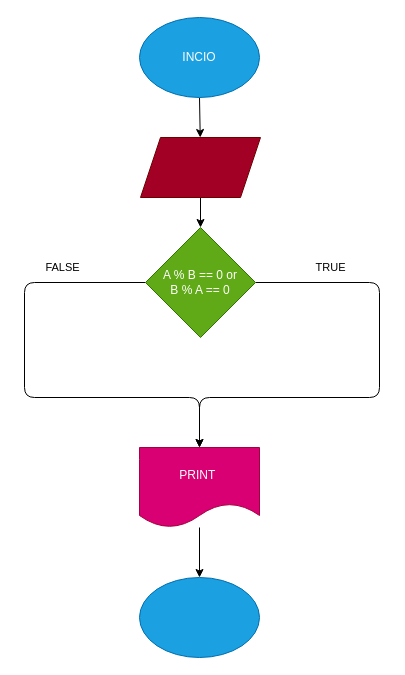
Image size: 405x675. Some labels were removed from this diagram. Here are the shapes that lost their labels. From the top down, the centre of each, then its label:
At point (200, 167): "A , B".
At point (199, 617): "FIN".
